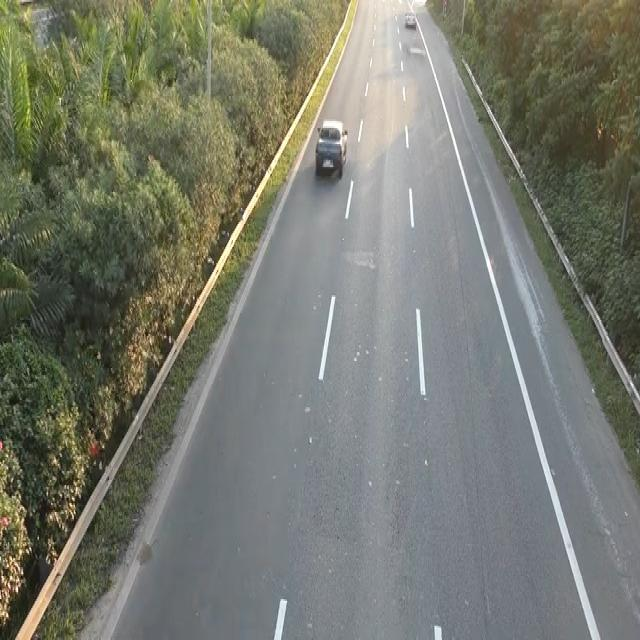car: (313, 116, 349, 178)
